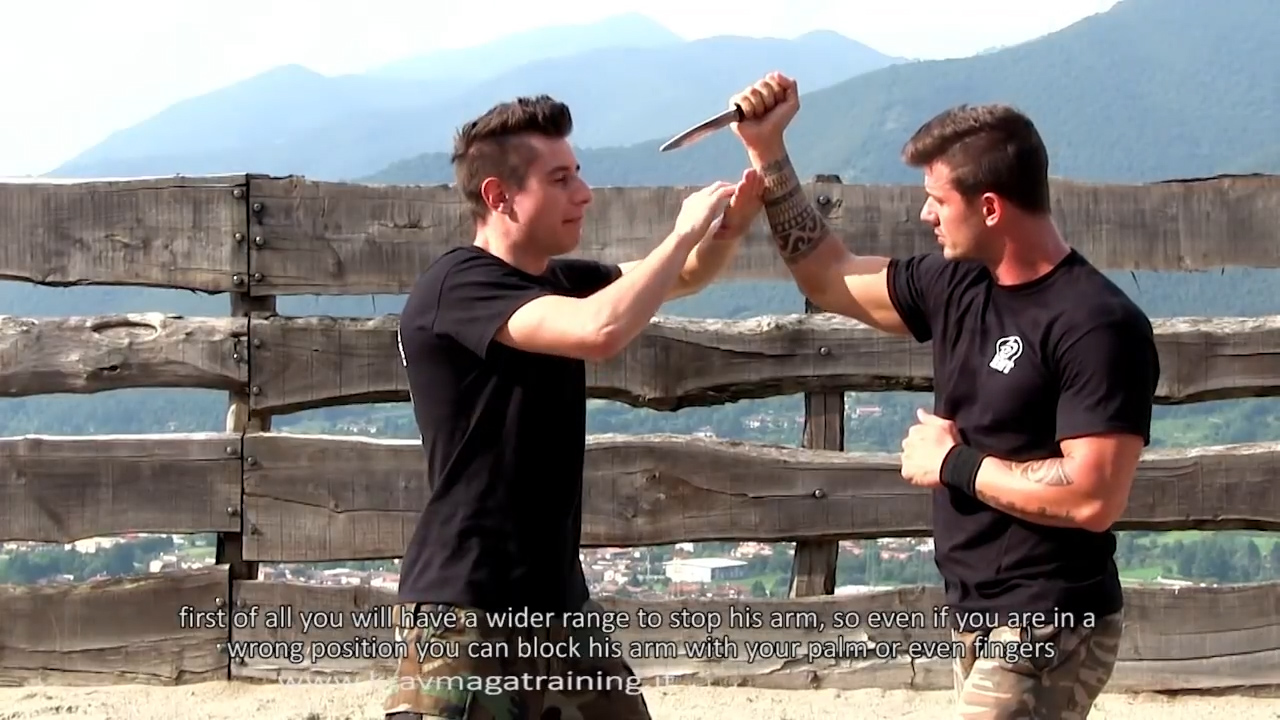knife: (652, 65, 803, 163)
